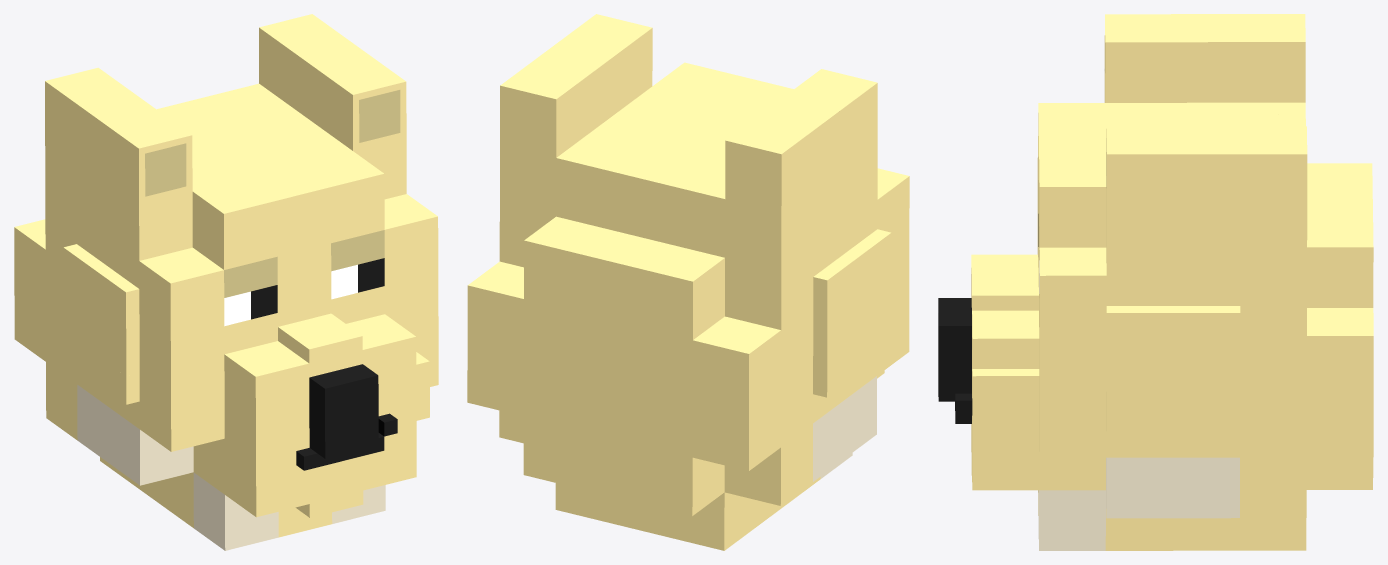
The model's file is 8_Reward_model_Example(Optional).glb.
3 renders of one model, left to right at view 1: azimuth 30°, elevation 25°; view 2: azimuth 150°, elevation 25°; view 3: azimuth 270°, elevation 25°, orthographic. The views are drawn at different scales.
Parts seen in each view (by area): view 1: dogehead.001; view 2: dogehead.001; view 3: dogehead.001.
Part boxes in pixels (x1,y1,x2,y2): dogehead.001: (14,14,438,550); dogehead.001: (467,14,909,550); dogehead.001: (938,14,1373,550).
Bounding box in the file's own units: 0.847 × 1.08 × 1.
Materials: 1 (1 with a texture image).
